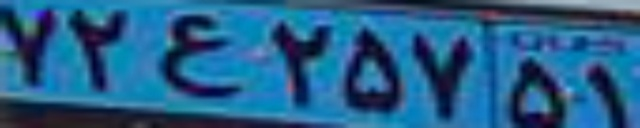1: (584, 66, 629, 127)
2: (68, 7, 126, 91), (269, 24, 327, 104)
5: (336, 30, 398, 110), (503, 58, 572, 127)
7: (407, 34, 476, 120), (0, 4, 56, 86)
ain: (155, 15, 243, 96)
